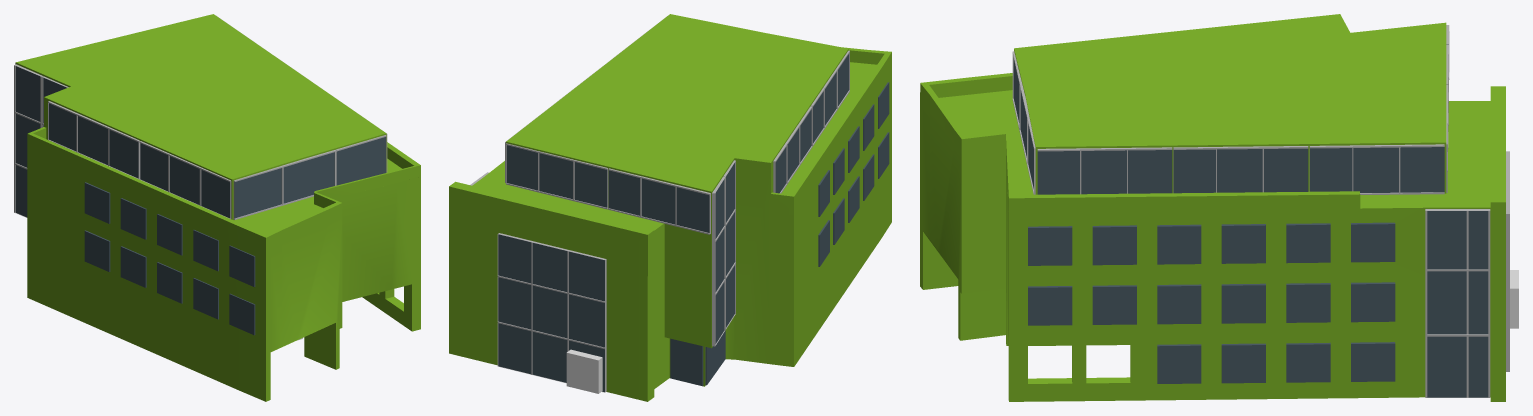
3 renders of one model, left to right at view 1: azimuth 30°, elevation 25°; view 2: azimuth 150°, elevation 25°; view 3: azimuth 270°, elevation 25°, orthographic. The views are drawn at different scales.
Parts seen in each view (by area): view 1: A13; view 2: A13, Entrance; view 3: A13, Entrance.
Boxes of the visible parts, x1,y1,x2,y2 form: A13: (14, 14, 420, 401); A13: (449, 14, 891, 401); Entrance: (566, 349, 602, 393); A13: (920, 14, 1509, 401); Entrance: (1510, 270, 1518, 328).
Size of the model in its own units: 17.16 by 12 by 27.06.
